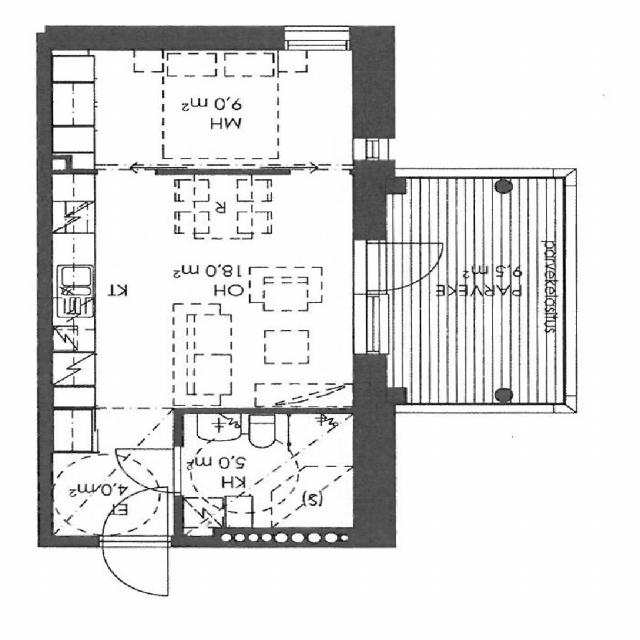door: (353, 242, 450, 290), (102, 487, 167, 547), (102, 536, 167, 596), (115, 449, 183, 493)
